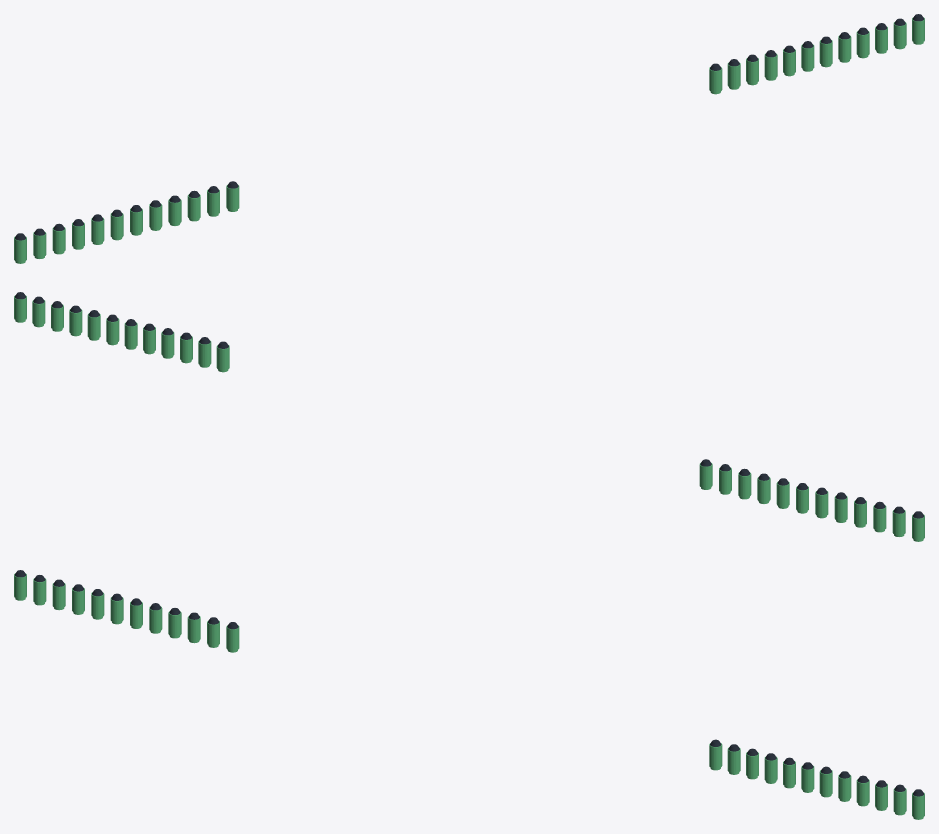
File: ash-green-silo-group-low.glb
3 views of the same model, one above another, from view 1: azimuth 30°, elevation 25°; view 2: azimuth 150°, elevation 25°; view 3: azimuth 330°, elevation 25° (orthographic).
Size of the model in its own units: 565 by 16 by 7.
